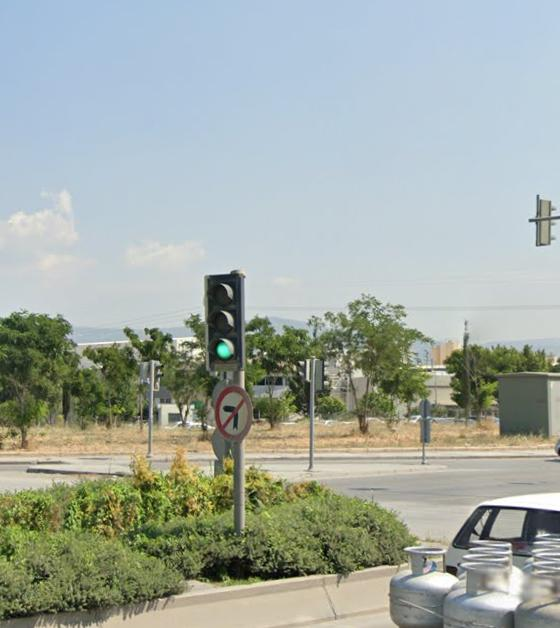greenlight: (205, 277, 236, 362)
rightturnsareforbidden: (215, 387, 251, 439)
